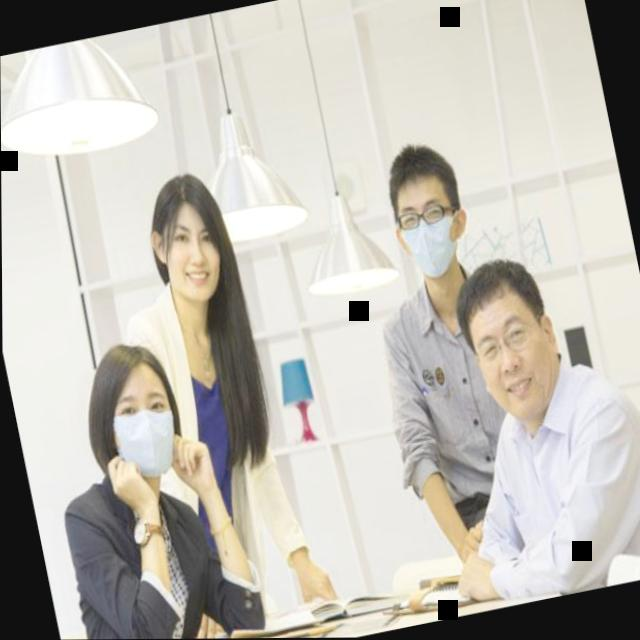Mask: (63, 323, 199, 509), (371, 128, 486, 289)
NO-Mask: (440, 241, 580, 439), (132, 158, 252, 321)
